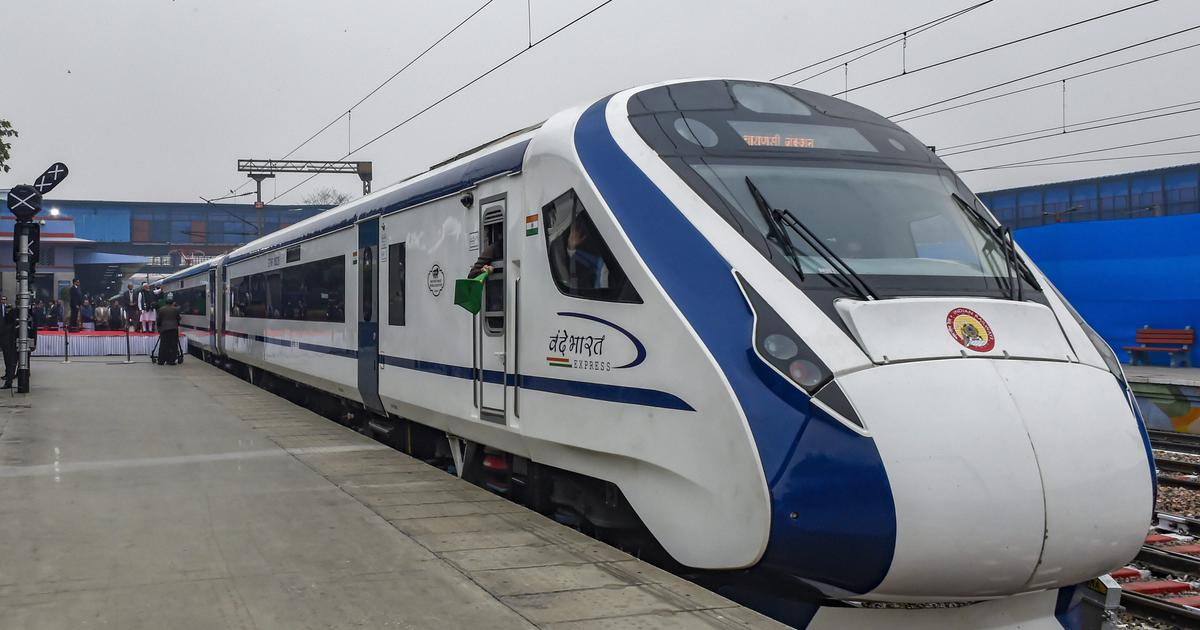train: (169, 69, 1151, 620)
